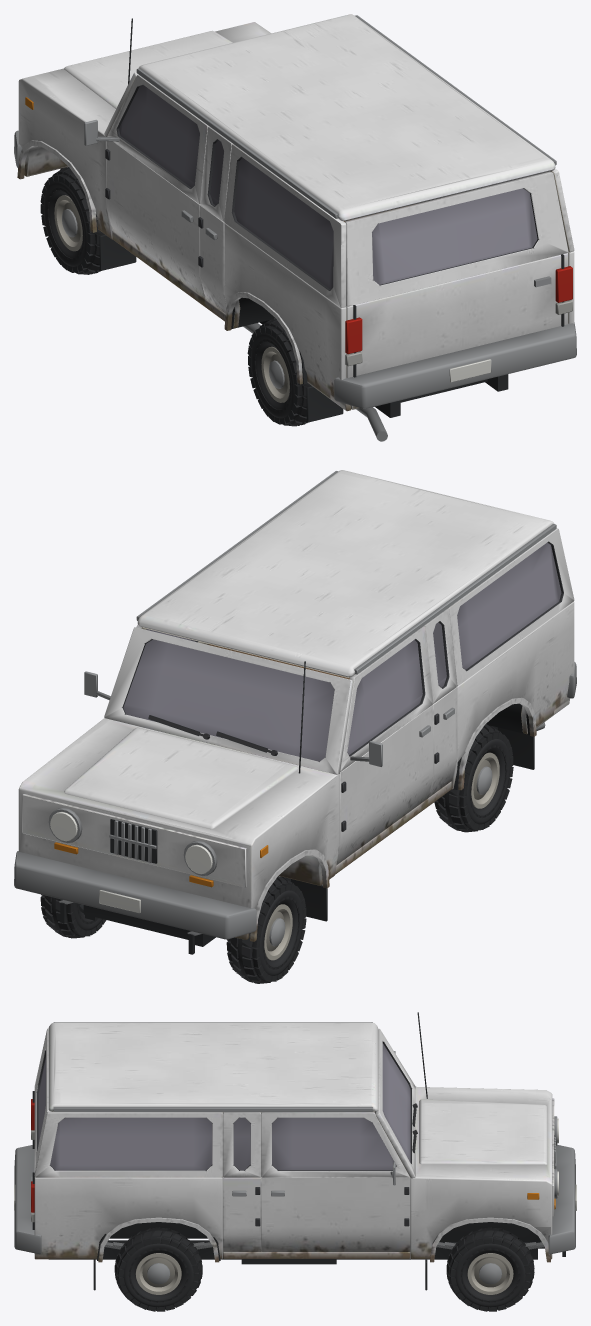
The model's file is wagon63.m.glb.
The picture shows the model from 3 angles, top to bottom: view 1: azimuth 30°, elevation 25°; view 2: azimuth 150°, elevation 25°; view 3: azimuth 270°, elevation 25°; orthographic projection. The views are drawn at different scales.
Visible parts, largest first — view 1: body, door_FL, wheel_FL, wheel_RL, door_RL; view 2: body, door_FL, wheel_FL, wheel_RL, door_RL, wheel_FR; view 3: body, door_FR, wheel_RR, wheel_FR, door_RR.
Boxes of the visible parts, x1=… form: body: x1=14, y1=14, x2=576, y2=441; door_FL: x1=84, y1=75, x2=209, y2=298; wheel_FL: x1=40, y1=167, x2=104, y2=274; wheel_RL: x1=247, y1=318, x2=311, y2=426; door_RL: x1=198, y1=126, x2=233, y2=313; body: x1=14, y1=470, x2=576, y2=954; door_FL: x1=336, y1=626, x2=433, y2=864; wheel_FL: x1=226, y1=876, x2=306, y2=983; wheel_RL: x1=434, y1=724, x2=513, y2=832; door_RL: x1=423, y1=608, x2=456, y2=797; wheel_FR: x1=40, y1=894, x2=106, y2=938; body: x1=14, y1=1012, x2=576, y2=1290; door_FR: x1=261, y1=1112, x2=410, y2=1251; wheel_RR: x1=114, y1=1227, x2=202, y2=1311; wheel_FR: x1=446, y1=1227, x2=534, y2=1311; door_RR: x1=223, y1=1112, x2=261, y2=1251.
Size of the model in its own units: 2.32 by 2.11 by 4.74.
Materials: 16 (1 with a texture image).
